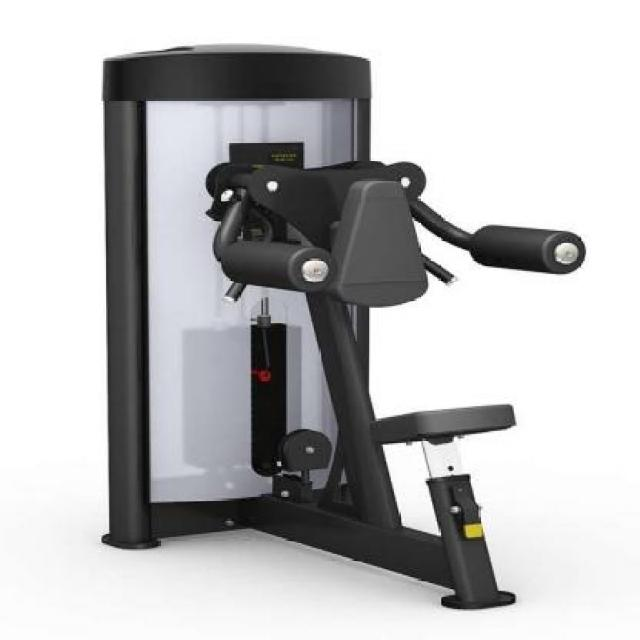lateral raises machine: (100, 42, 589, 610)
